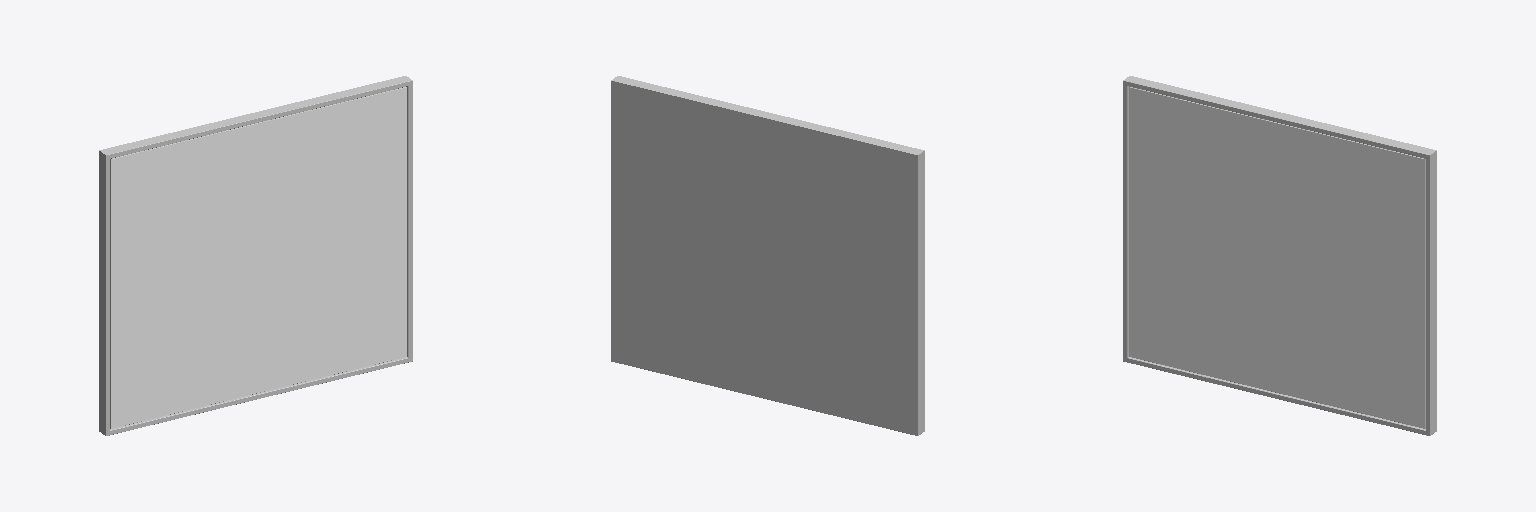
File: 픽쳐프레임.obj
3 views of the same model, side by side, from view 1: azimuth 30°, elevation 25°; view 2: azimuth 150°, elevation 25°; view 3: azimuth 330°, elevation 25° (orthographic).
Visible parts, largest first — view 1: Framed_modern_painting_3.001, Framed_modern_painting_3; view 2: Framed_modern_painting_3; view 3: Framed_modern_painting_3.001, Framed_modern_painting_3.
Part boxes in pixels (bbox=[...]): Framed_modern_painting_3.001: bbox=[111, 87, 406, 428]; Framed_modern_painting_3: bbox=[99, 76, 412, 435]; Framed_modern_painting_3: bbox=[611, 76, 924, 435]; Framed_modern_painting_3.001: bbox=[1129, 87, 1424, 428]; Framed_modern_painting_3: bbox=[1123, 76, 1436, 435].
Size of the model in its own units: 1.04 by 0.9073 by 0.04.